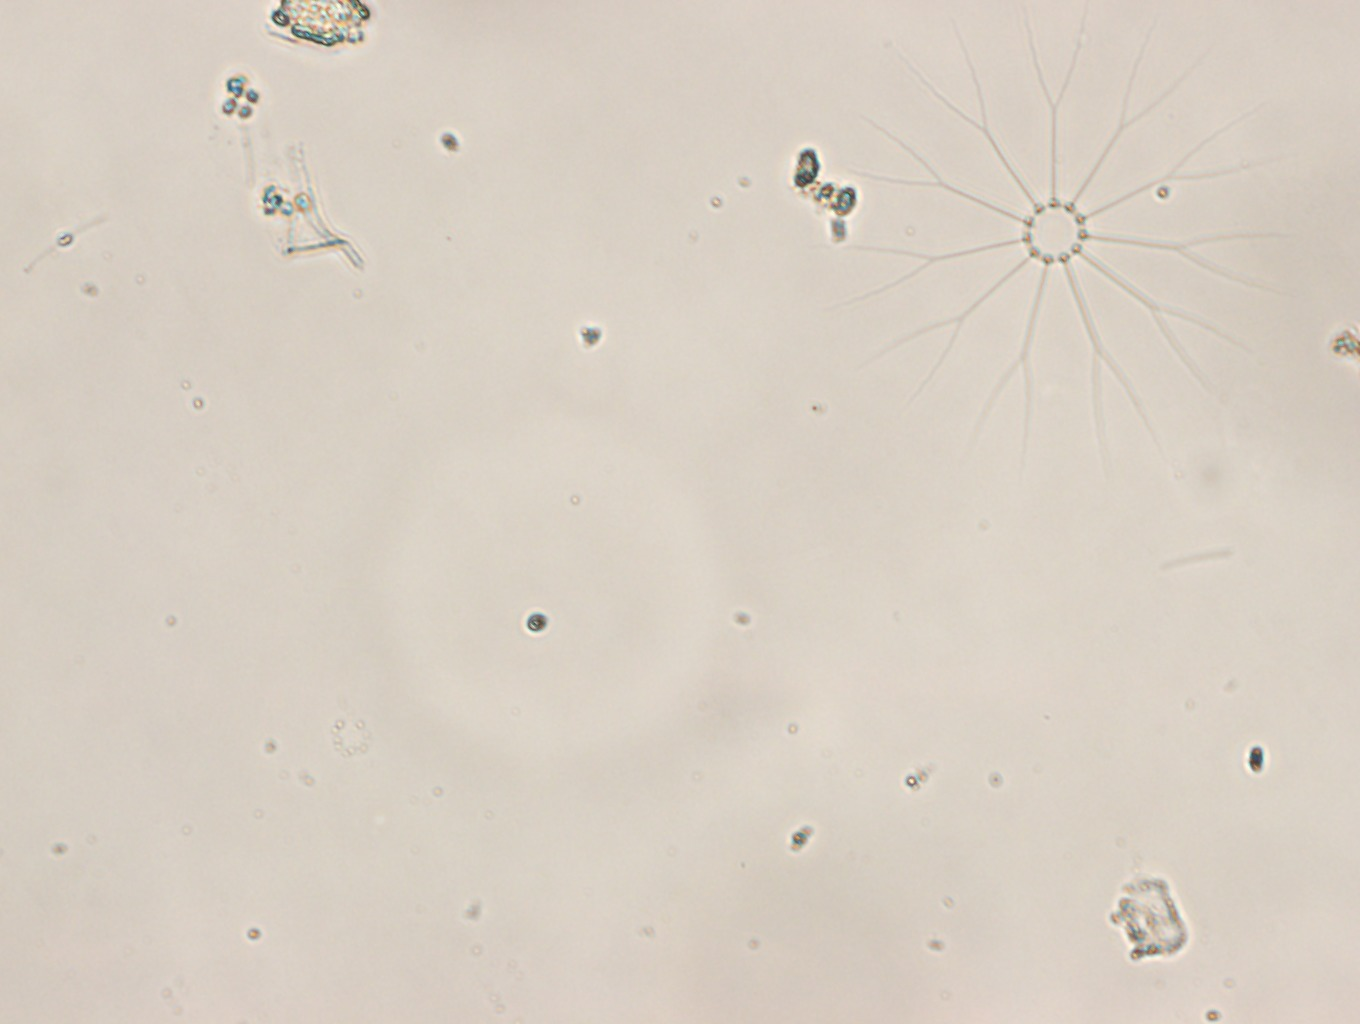bacteriastrum: (807, 1, 1308, 460)
